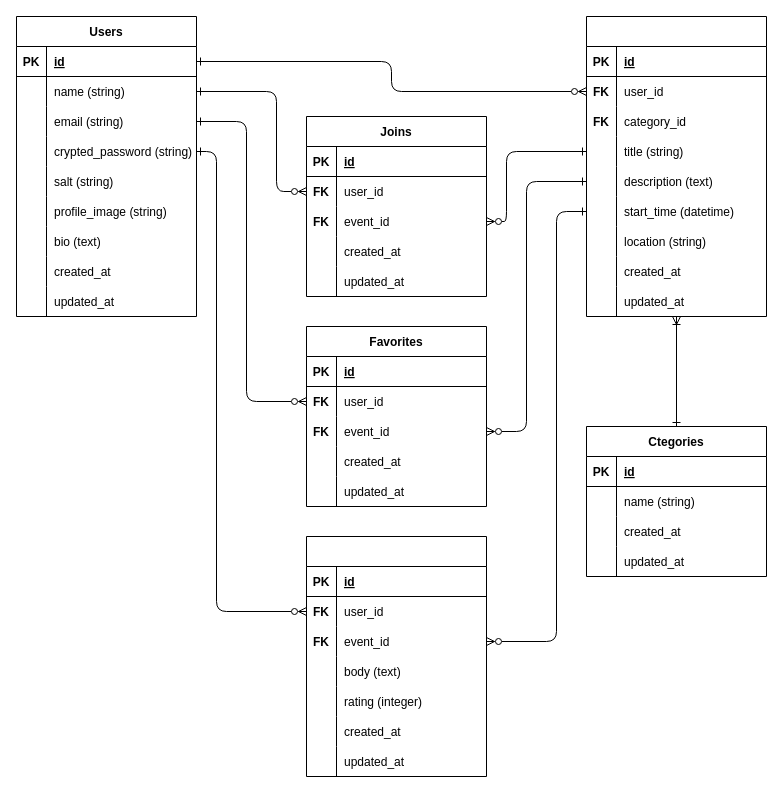
Some shapes in this 783 by 793 pixel diagram are drawn without their labels. The shapes that lost their labels are listed below. From the top down, each one's box as (x1, y1, x2, y2) in pixels, then its label:
(586, 16, 766, 316): Events
(306, 536, 486, 776): Reviews
